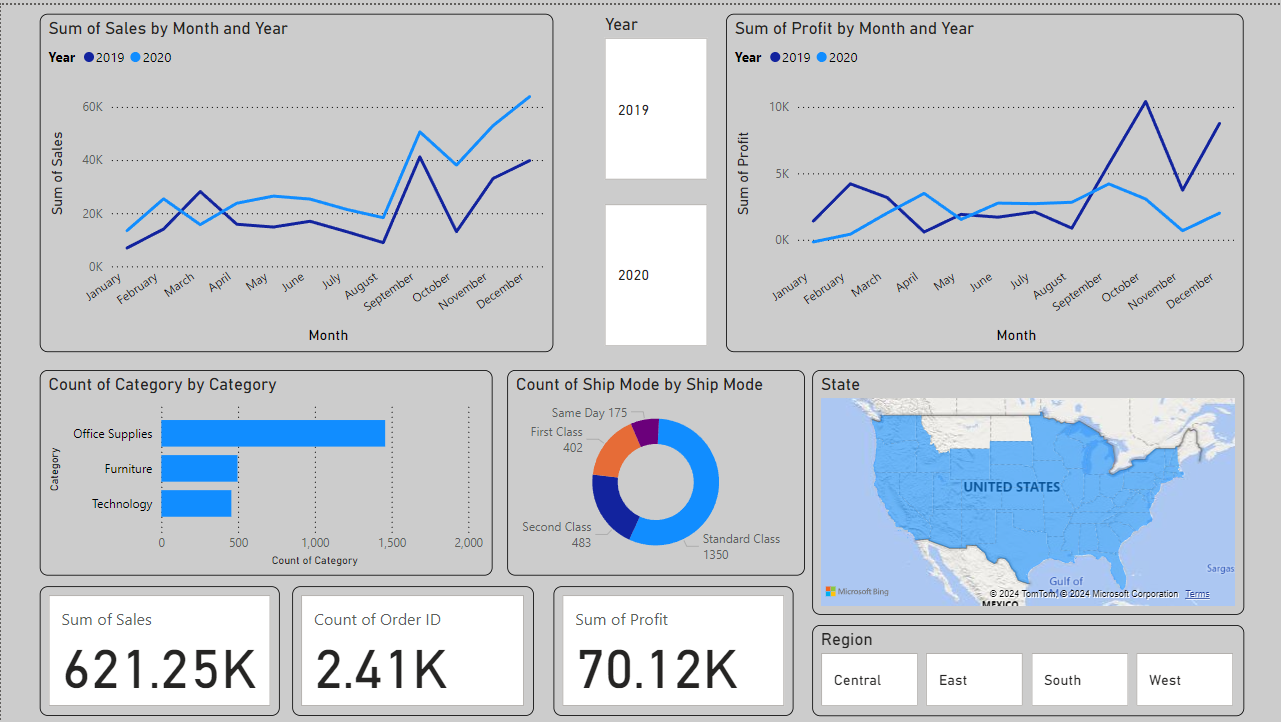

The page's visual inventory and layout, read from the dashboard file:
{"tool":"powerbi","page":{"name":"Page 1","canvas":[1280,720],"ordinal":0},"visuals":[{"type":"lineChart","fields":{"Category":["SuperStore_Sales_Dataset.Order Date.Variation.Date Hierarchy.Month"],"Y":["Sum(SuperStore_Sales_Dataset.Sales)"],"Series":["SuperStore_Sales_Dataset.Order Date.Variation.Date Hierarchy.Year"]},"box":[38.6,8.7,513.8,338.4],"z":0},{"type":"advancedSlicerVisual","fields":{"Values":["SuperStore_Sales_Dataset.Order Date.Variation.Date Hierarchy.Year"]},"box":[598.3,8.7,113.2,338.4],"z":1000},{"type":"clusteredBarChart","fields":{"Category":["SuperStore_Sales_Dataset.Category"],"Y":["CountNonNull(SuperStore_Sales_Dataset.Category)"]},"box":[38.6,364.5,452.8,205.3],"z":2000},{"type":"cardVisual","fields":{"Data":["Sum(SuperStore_Sales_Dataset.Profit)"]},"box":[552.3,580.9,240.1,129.4],"z":3000},{"type":"cardVisual","fields":{"Data":["Sum(SuperStore_Sales_Dataset.Sales)"]},"box":[38.6,580.9,240.1,129.4],"z":4000},{"type":"filledMap","fields":{"Category":["SuperStore_Sales_Dataset.State"]},"box":[811.1,364.5,431.7,245.1],"z":5000},{"type":"advancedSlicerVisual","fields":{"Values":["SuperStore_Sales_Dataset.Region"]},"box":[811.1,619.5,431.7,90.8],"z":6000},{"type":"cardVisual","fields":{"Data":["CountNonNull(SuperStore_Sales_Dataset.Order ID)"]},"box":[291.1,580.9,241.3,129.4],"z":7000},{"type":"lineChart","fields":{"Y":["Sum(SuperStore_Sales_Dataset.Profit)"],"Category":["SuperStore_Sales_Dataset.Order Date.Variation.Date Hierarchy.Month"],"Series":["SuperStore_Sales_Dataset.Order Date.Variation.Date Hierarchy.Year"]},"box":[725.2,8.7,517.5,338.4],"z":8000},{"type":"donutChart","fields":{"Y":["CountNonNull(SuperStore_Sales_Dataset.Ship Mode)"],"Category":["SuperStore_Sales_Dataset.Ship Mode"]},"box":[506.3,364.5,297.3,205.3],"z":9000}]}

Visuals, with their boxes in screenshot pixels (x1, y1, x2, y2), scaled from the page's 1280x720 canvas onto the 1281x722 screenshot:
lineChart - SuperStore_Sales_Dataset.Order Date.Variation.Date Hierarchy.Month x Sum(SuperStore_Sales_Dataset.Sales): <region>39, 9, 553, 348</region>
advancedSlicerVisual - SuperStore_Sales_Dataset.Order Date.Variation.Date Hierarchy.Year: <region>599, 9, 712, 348</region>
clusteredBarChart - SuperStore_Sales_Dataset.Category x CountNonNull(SuperStore_Sales_Dataset.Category): <region>39, 366, 492, 571</region>
cardVisual - Sum(SuperStore_Sales_Dataset.Profit): <region>553, 583, 793, 712</region>
cardVisual - Sum(SuperStore_Sales_Dataset.Sales): <region>39, 583, 279, 712</region>
filledMap - SuperStore_Sales_Dataset.State: <region>812, 366, 1244, 611</region>
advancedSlicerVisual - SuperStore_Sales_Dataset.Region: <region>812, 621, 1244, 712</region>
cardVisual - CountNonNull(SuperStore_Sales_Dataset.Order ID): <region>291, 583, 533, 712</region>
lineChart - Sum(SuperStore_Sales_Dataset.Profit) x SuperStore_Sales_Dataset.Order Date.Variation.Date Hierarchy.Month: <region>726, 9, 1244, 348</region>
donutChart - CountNonNull(SuperStore_Sales_Dataset.Ship Mode) x SuperStore_Sales_Dataset.Ship Mode: <region>507, 366, 804, 571</region>
